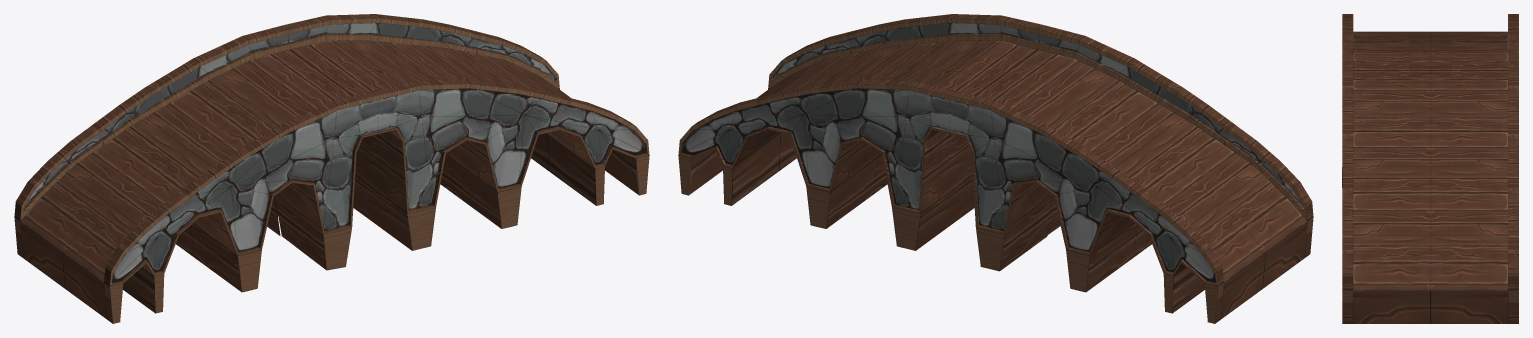
Rendered from Bridge_Final.fbx.
The picture shows the model from 3 angles, left to right: view 1: azimuth 30°, elevation 25°; view 2: azimuth 150°, elevation 25°; view 3: azimuth 270°, elevation 25°; orthographic projection. The views are drawn at different scales.
Parts seen in each view (by area): view 1: Symmetry_1; view 2: Symmetry_1; view 3: Symmetry_1.
Boxes of the visible parts, x1=… form: Symmetry_1: x1=14, y1=14, x2=649, y2=323; Symmetry_1: x1=678, y1=14, x2=1313, y2=323; Symmetry_1: x1=1342, y1=14, x2=1518, y2=323.
Bounding box in the file's own units: 1437 × 420 × 441.
1 material, 1 textured.
